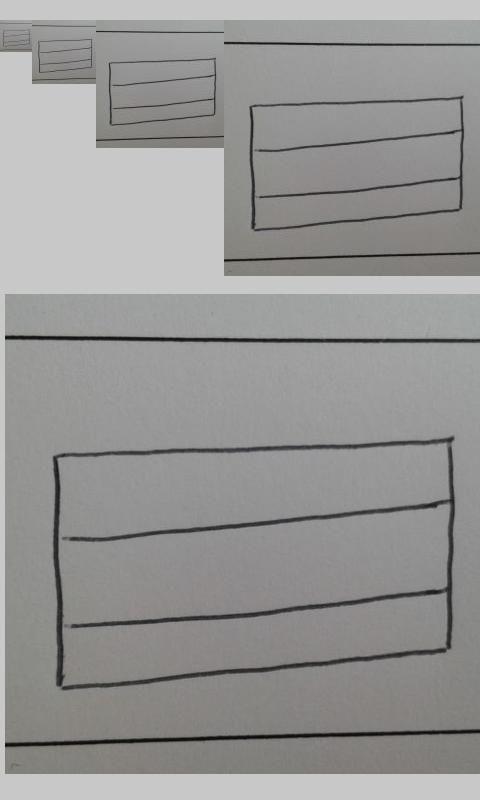list_view: (47, 435, 459, 692), (248, 95, 466, 233), (108, 58, 217, 126), (37, 38, 94, 74), (2, 28, 31, 47)
